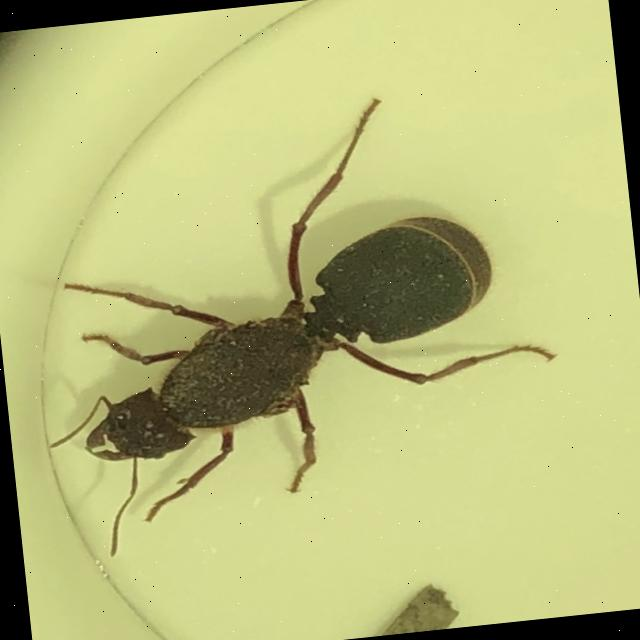Alive-Female-Dealate: (14, 79, 574, 563)
